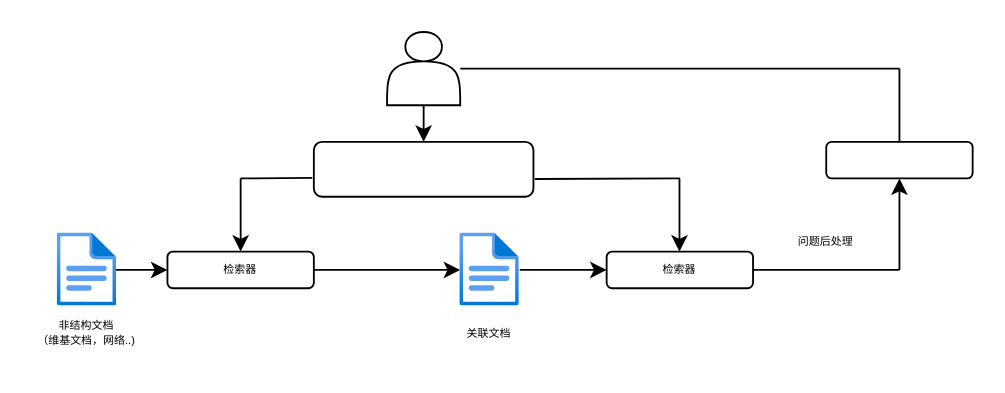
Image size: 1005x393. Some labels were removed from this diagram. The shapes that lost their labels are listed below. From the top down, each one's centre as x and y in pixels, then its label:
At point 422,168: "Q：居里夫人什么时候拿的她人生中第一个诺贝尔奖？".
At point 898,159: "A：1903年".
